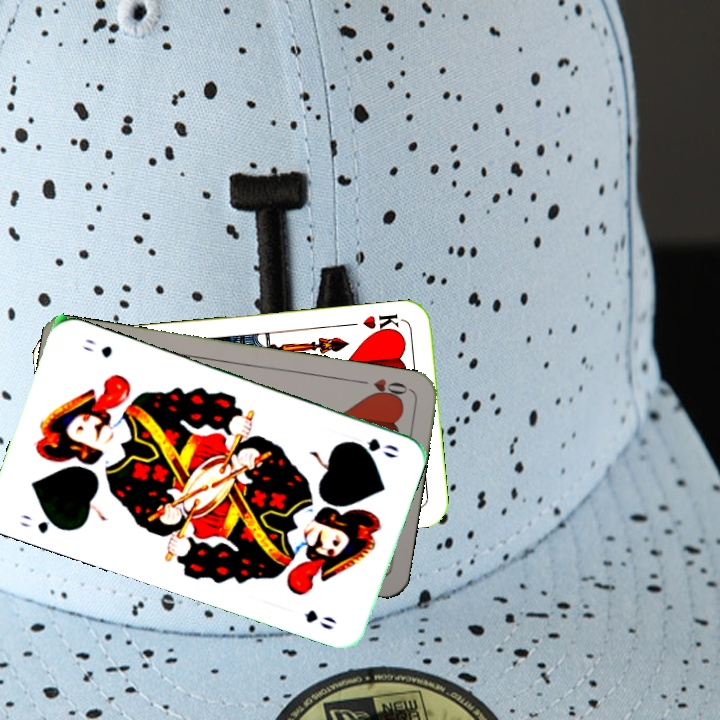GO: (342, 434, 401, 461), (15, 510, 68, 536)
HK: (359, 310, 405, 337)
HO: (353, 374, 412, 403)
